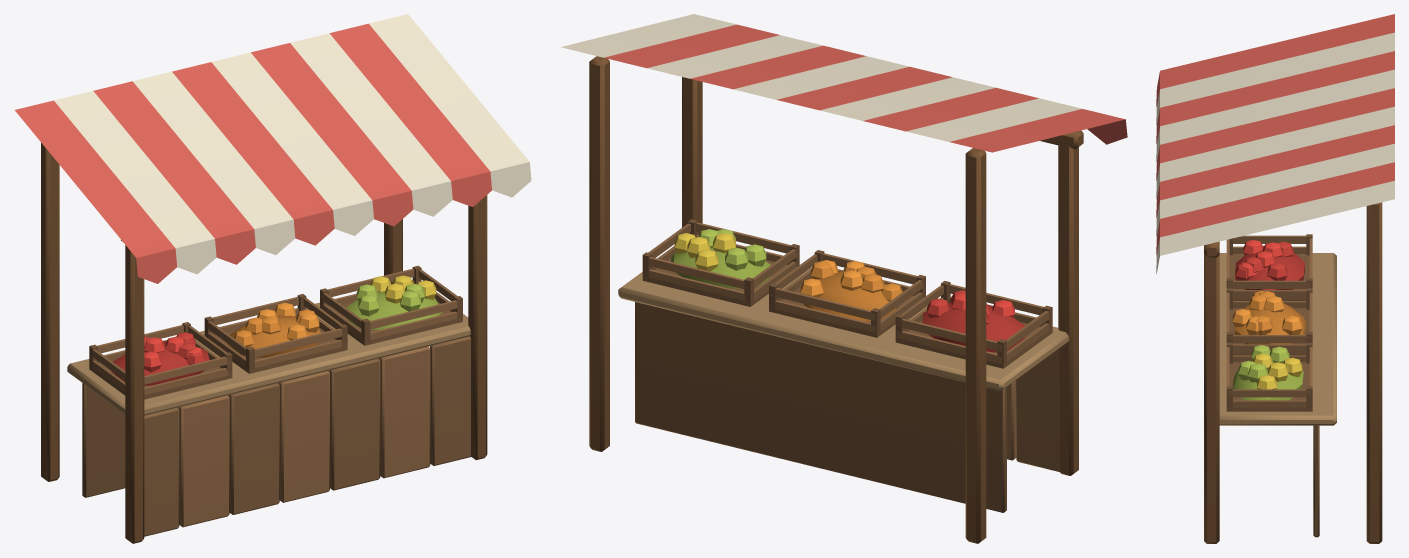
The model's file is fruit-stall.glb.
The picture shows the model from 3 angles, left to right: view 1: azimuth 30°, elevation 25°; view 2: azimuth 150°, elevation 25°; view 3: azimuth 270°, elevation 25°; orthographic projection. The views are drawn at different scales.
Visible parts, largest first — view 1: fruit-stall; view 2: fruit-stall; view 3: fruit-stall.
Boxes of the visible parts, x1,y1,x2,y2 form: fruit-stall: (15,14,531,543); fruit-stall: (561,14,1127,543); fruit-stall: (1156,14,1394,543).
Bounding box in the file's own units: 2.8 × 2.5 × 1.52.
